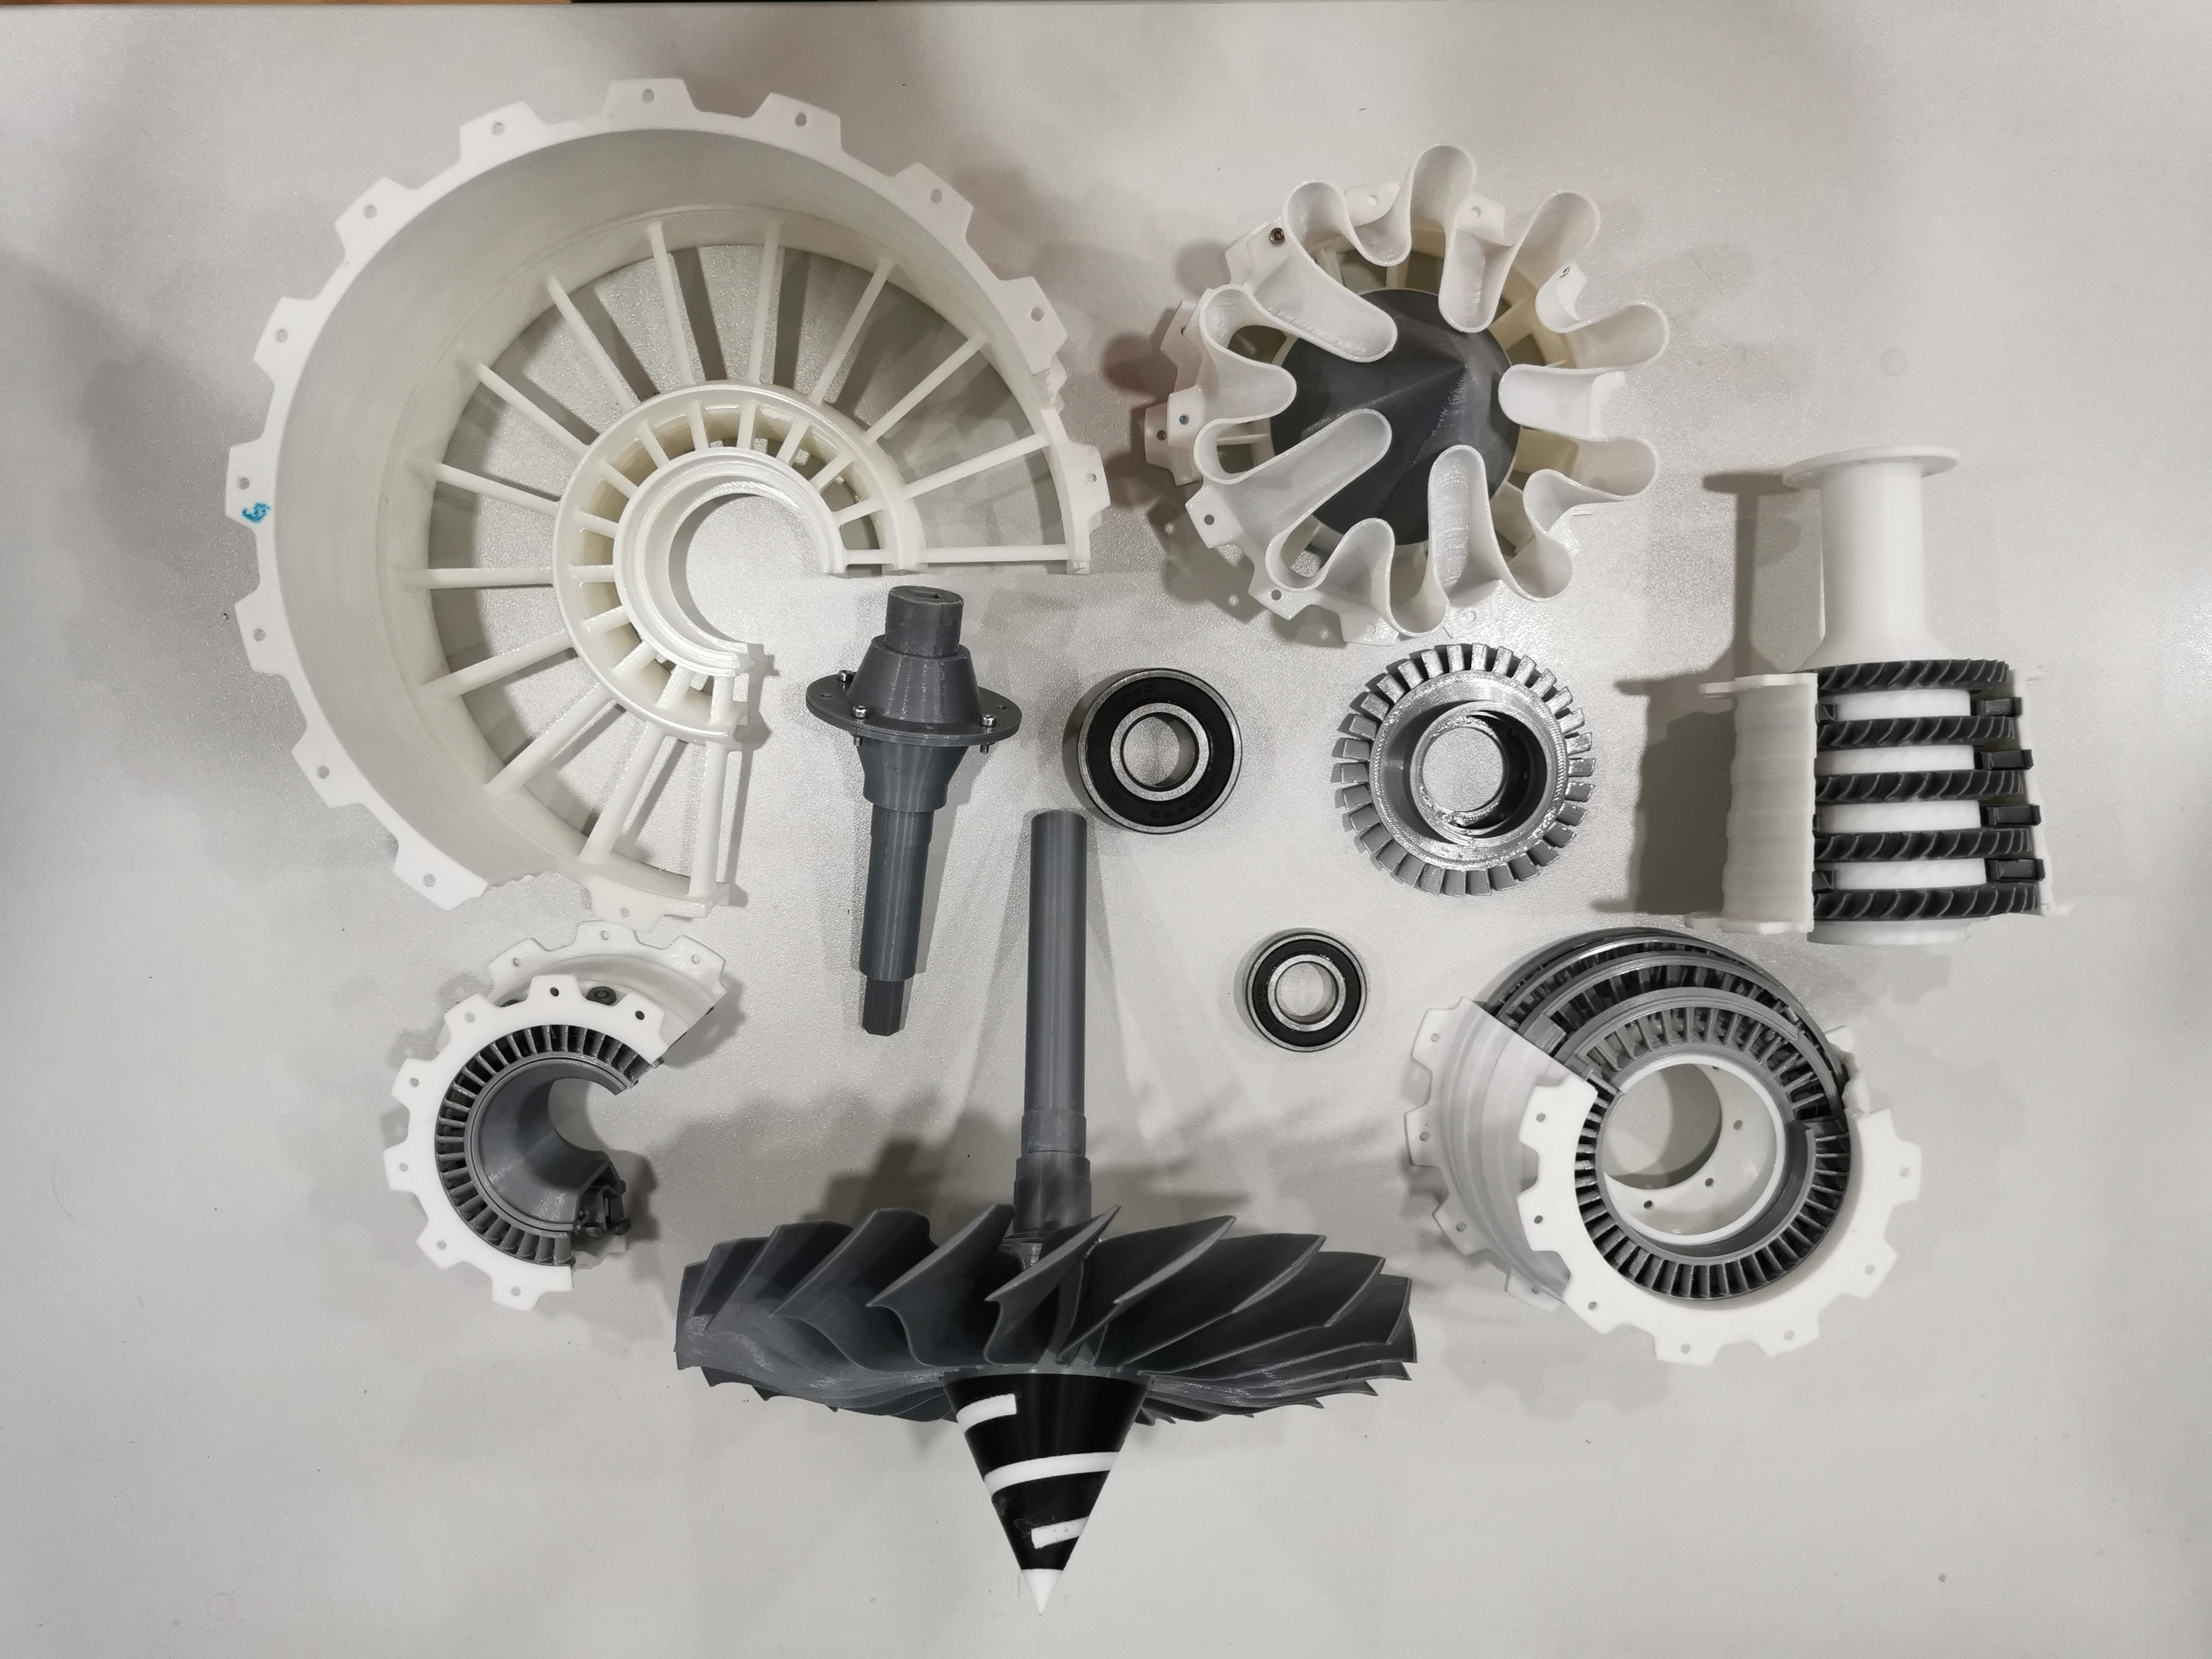Bearing-6003: (1230, 911, 1376, 1068)
Bearing-6204: (1069, 652, 1251, 845)
Combustion Section: (371, 920, 761, 1314)
Fan Casing and Support: (216, 70, 1116, 938)
Fan and Low Pressure Shaft: (660, 800, 1423, 1624)
HPT Section: (1324, 638, 1615, 903)
High Pressure Spool: (1683, 430, 2085, 951)
LPT Section: (1397, 917, 1935, 1375)
Low Pressure Spool: (796, 577, 1026, 1049)
Nozzle Section: (1125, 125, 1684, 650)
